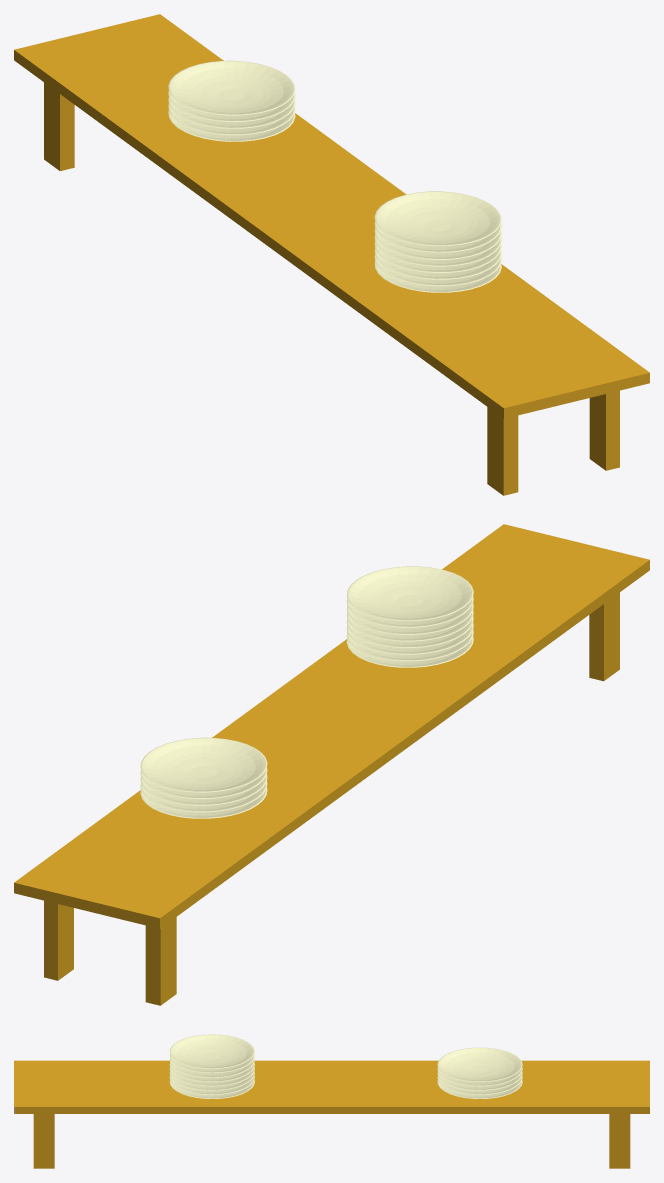
The model's file is foodtruckinside_dishestable.obj.
3 renders of one model, top to bottom at view 1: azimuth 30°, elevation 25°; view 2: azimuth 150°, elevation 25°; view 3: azimuth 270°, elevation 25°, orthographic. The views are drawn at different scales.
Visible parts, largest first — view 1: Cube.001, Sphere.012, Sphere.007, Sphere.005, Sphere.002, Sphere.009, Sphere.001, Sphere.010, Sphere.004, Sphere.006, Sphere.008, Sphere.011 (+2 smaller); view 2: Cube.001, Sphere.012, Sphere.007, Sphere.005, Sphere.009, Sphere.001, Sphere.010, Sphere.002, Sphere.006, Sphere.004, Sphere, Sphere.003 (+2 smaller); view 3: Cube.001, Sphere.012, Sphere.007, Sphere.005, Sphere.010, Sphere.002, Sphere.001, Sphere.006, Sphere.004, Sphere.009, Sphere.008, Sphere.003 (+2 smaller).
Boxes of the visible parts, <box> form: Cube.001: <box>14,14,649,495</box>; Sphere.012: <box>168,60,295,115</box>; Sphere.007: <box>374,191,501,246</box>; Sphere.005: <box>374,228,501,259</box>; Sphere.002: <box>374,249,501,279</box>; Sphere.009: <box>168,104,295,135</box>; Sphere.001: <box>374,255,501,286</box>; Sphere.010: <box>168,98,295,128</box>; Sphere.004: <box>374,235,501,266</box>; Sphere.006: <box>374,222,501,252</box>; Sphere.008: <box>168,111,295,141</box>; Sphere.011: <box>168,91,295,121</box>; Cube.001: <box>14,524,649,1005</box>; Sphere.012: <box>140,737,267,792</box>; Sphere.007: <box>346,566,473,620</box>; Sphere.005: <box>346,603,473,634</box>; Sphere.009: <box>140,781,267,812</box>; Sphere.001: <box>346,630,473,661</box>; Sphere.010: <box>140,775,267,805</box>; Sphere.002: <box>346,624,473,654</box>; Sphere.006: <box>346,597,473,627</box>; Sphere.004: <box>346,610,473,641</box>; Sphere: <box>346,637,473,667</box>; Sphere.003: <box>346,617,473,647</box>; Cube.001: <box>14,1060,649,1168</box>; Sphere.012: <box>437,1047,522,1081</box>; Sphere.007: <box>169,1034,254,1068</box>; Sphere.005: <box>169,1058,254,1077</box>; Sphere.010: <box>437,1071,522,1090</box>; Sphere.002: <box>169,1071,254,1090</box>; Sphere.001: <box>169,1076,254,1094</box>; Sphere.006: <box>169,1054,254,1072</box>; Sphere.004: <box>169,1063,254,1081</box>; Sphere.009: <box>437,1076,522,1094</box>; Sphere.008: <box>437,1080,522,1098</box>; Sphere.003: <box>169,1067,254,1086</box>.
Bounding box in the file's own units: 3.99 × 4.14 × 23.15.
